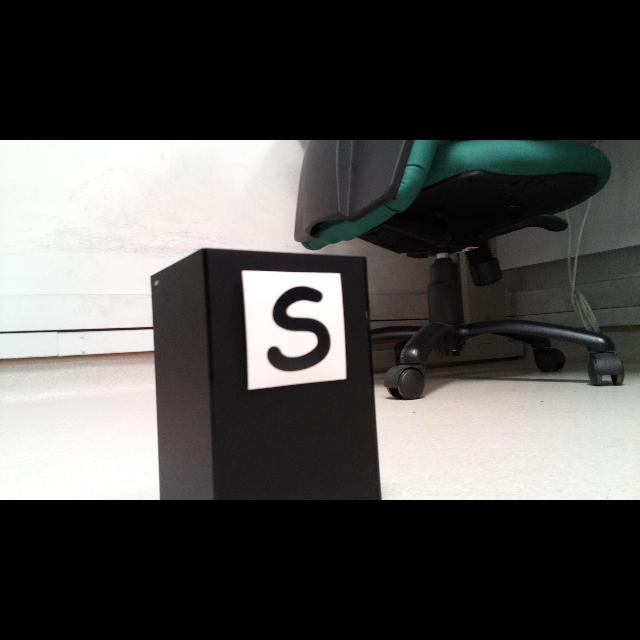S: (266, 286, 332, 373)
